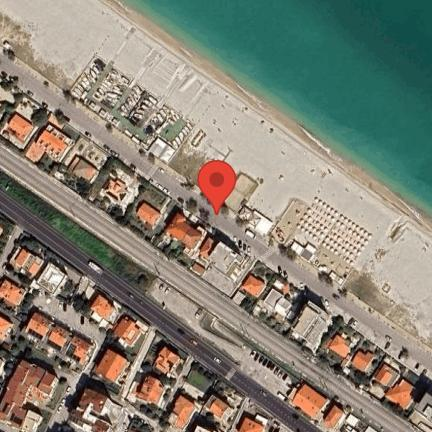area_open: (6, 1, 430, 353), (142, 285, 295, 401), (33, 293, 107, 341)
built: (2, 355, 60, 432), (187, 241, 252, 297), (30, 313, 90, 367), (6, 246, 64, 295), (291, 388, 351, 429), (30, 116, 72, 173), (74, 390, 123, 432), (289, 304, 333, 347), (258, 285, 296, 322), (164, 215, 202, 251), (100, 178, 134, 212), (65, 150, 99, 182), (88, 289, 119, 324), (6, 110, 33, 150), (166, 398, 199, 430), (152, 343, 183, 377), (135, 377, 171, 405), (100, 351, 127, 382), (386, 384, 415, 409), (328, 331, 352, 361), (1, 277, 25, 307), (376, 361, 401, 387), (352, 350, 379, 374), (139, 202, 166, 225), (116, 314, 138, 341), (241, 415, 274, 432), (208, 398, 234, 418), (242, 276, 262, 297), (2, 315, 17, 343)
vegetation_low: (0, 170, 159, 296), (182, 368, 215, 401)
water: (128, 4, 429, 218)
